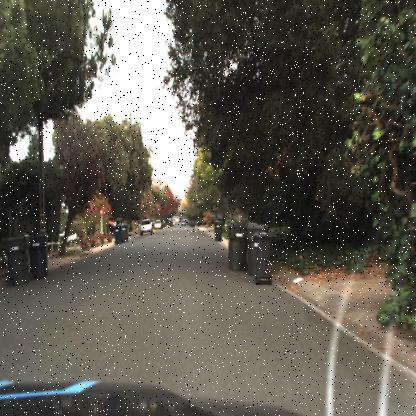car: (137, 216, 155, 237), (139, 217, 153, 235), (106, 214, 118, 233)
